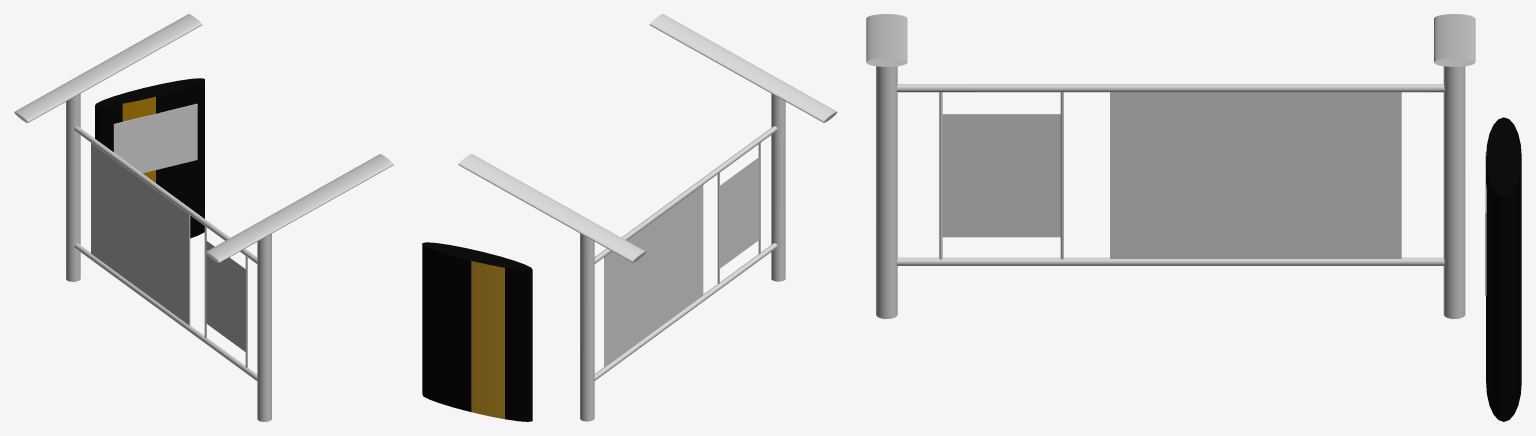
Rendered from SM_BusStop.fbx.
The picture shows the model from 3 angles, left to right: view 1: azimuth 30°, elevation 25°; view 2: azimuth 150°, elevation 25°; view 3: azimuth 270°, elevation 25°; orthographic projection. The views are drawn at different scales.
Visible parts, largest first — view 1: pCube1, pasted__pCylinder1 (×2), pCylinder2, pasted__pasted__pCylinder1 (×2), pasted__pasted__pCube1, pasted__pCube1, pCylinder1, pasted__pasted__pasted__pCylinder1; view 2: pCylinder2, pCube1, pasted__pCylinder1 (×2), pasted__pasted__pCylinder1 (×2), pasted__pCube1, pCylinder1, pasted__pasted__pasted__pCylinder1; view 3: pCube1, pasted__pCube1, pCylinder2, pasted__pCylinder1 (×2), pasted__pasted__pCylinder1 (×2), pCylinder1, pasted__pasted__pasted__pCylinder1, pasted__pasted__pasted__pasted__pCylinder1, pasted__pasted__pasted__pasted__pasted__pCylinder1.
Boxes of the visible parts, <box> form: pCube1: <box>91,143,190,325</box>; pasted__pCylinder1 (×2): <box>66,93,393,281</box>; pCylinder2: <box>95,78,204,238</box>; pasted__pasted__pCylinder1 (×2): <box>14,14,257,380</box>; pasted__pasted__pCube1: <box>113,103,197,173</box>; pasted__pCube1: <box>206,240,245,351</box>; pCylinder1: <box>257,234,271,421</box>; pasted__pasted__pasted__pCylinder1: <box>74,126,257,263</box>; pCylinder2: <box>422,242,532,421</box>; pCube1: <box>604,185,703,367</box>; pasted__pCylinder1 (×2): <box>580,14,837,421</box>; pasted__pasted__pCylinder1 (×2): <box>458,154,777,380</box>; pasted__pCube1: <box>720,157,759,268</box>; pCylinder1: <box>771,93,785,281</box>; pasted__pasted__pasted__pCylinder1: <box>594,126,777,263</box>; pCube1: <box>1110,92,1401,258</box>; pasted__pCube1: <box>942,114,1060,237</box>; pCylinder2: <box>1486,117,1521,421</box>; pasted__pCylinder1 (×2): <box>866,14,1465,318</box>; pasted__pasted__pCylinder1 (×2): <box>896,14,1475,265</box>; pCylinder1: <box>876,66,897,318</box>; pasted__pasted__pasted__pCylinder1: <box>896,84,1444,92</box>; pasted__pasted__pasted__pasted__pCylinder1: <box>1060,92,1063,259</box>; pasted__pasted__pasted__pasted__pasted__pCylinder1: <box>939,92,942,259</box>.
Size of the model in its own units: 2.43 by 2.68 by 4.62.
